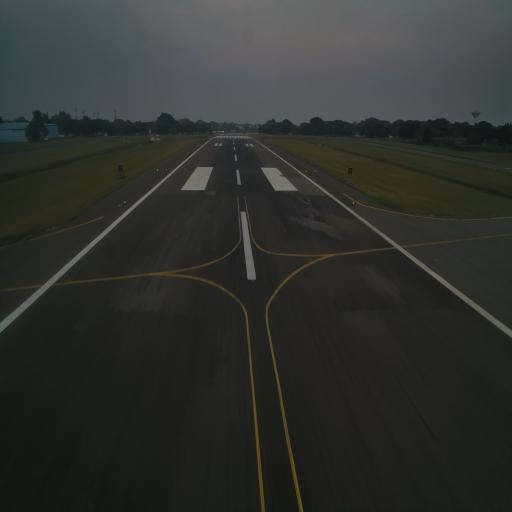on: (351, 198, 356, 208), (123, 198, 127, 206)
